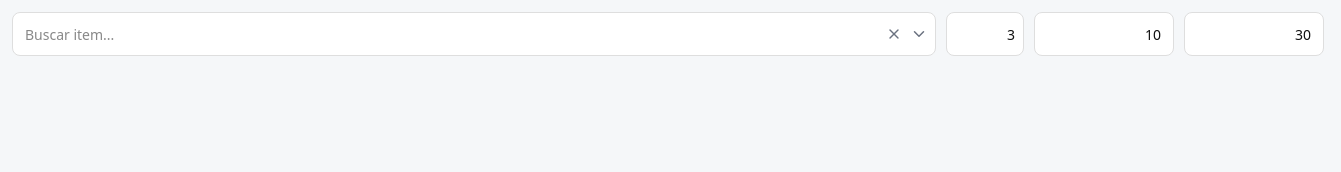
OperacionLineaEditor › Al actualizar el total, se actualiza el precio unitario manteniendo la cantidad
Replace the text in the number field with test id "operaciones-line-0-total" with "100" at x=1254, y=34, box [1184,12,1324,56]
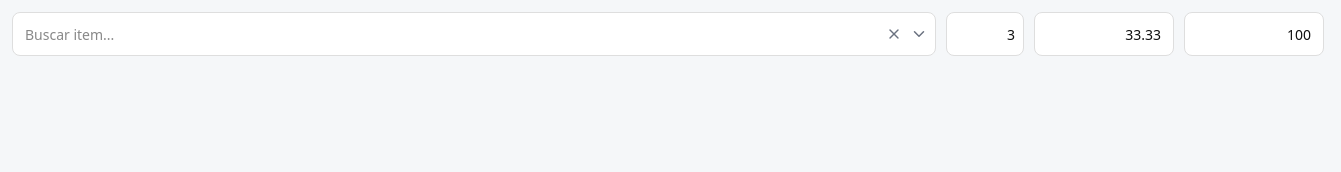
expect the number field with test id "operaciones-line-0-unitario" holds "33.33": met, box [1034,12,1174,56]
